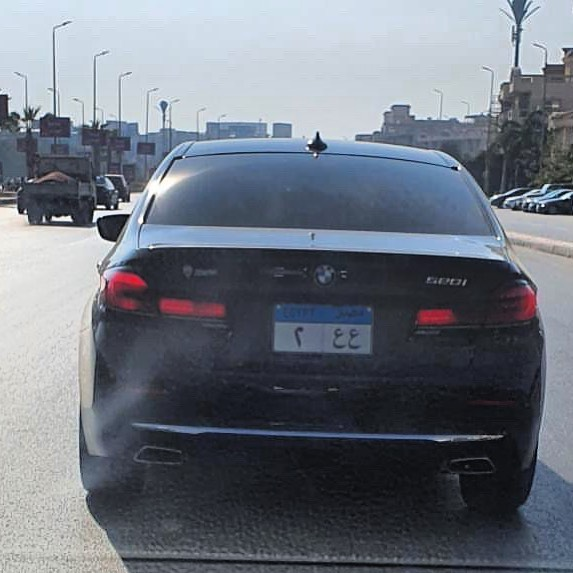carpl: (272, 313, 373, 355)
